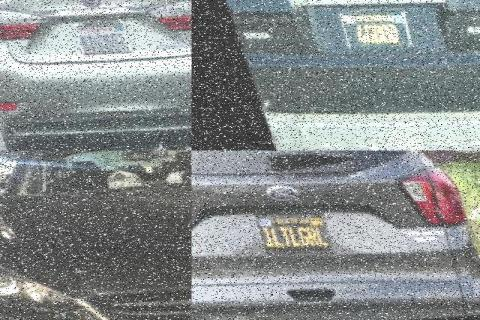LicensePlate: (333, 1, 414, 57), (248, 203, 334, 255), (72, 16, 129, 53)
